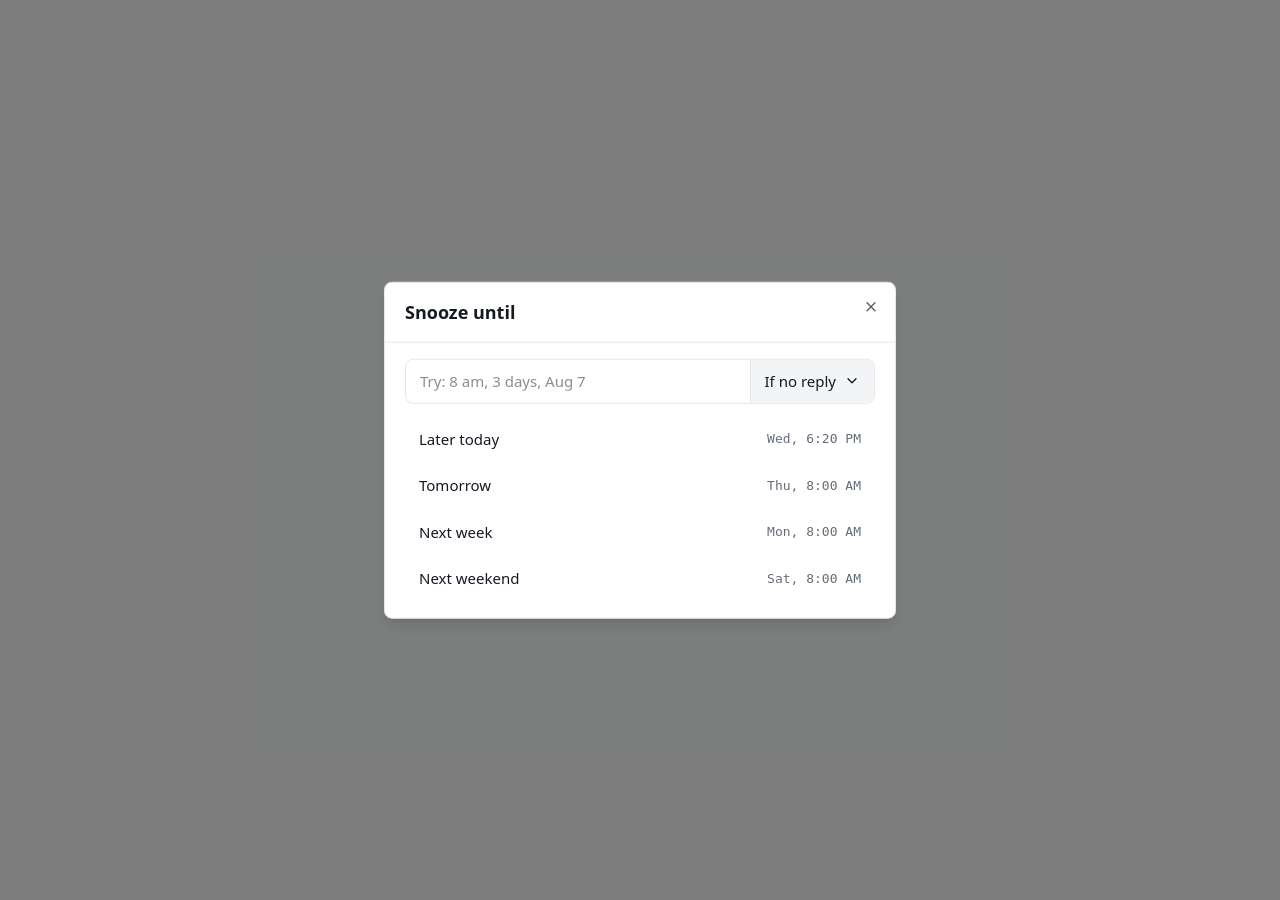
Scenario: choosing a moment › reads back what was typed before anything is committed
Type "3 days" into the field named "When". click: point(578, 381)
box: top-left (406, 360), bottom-right (750, 402)
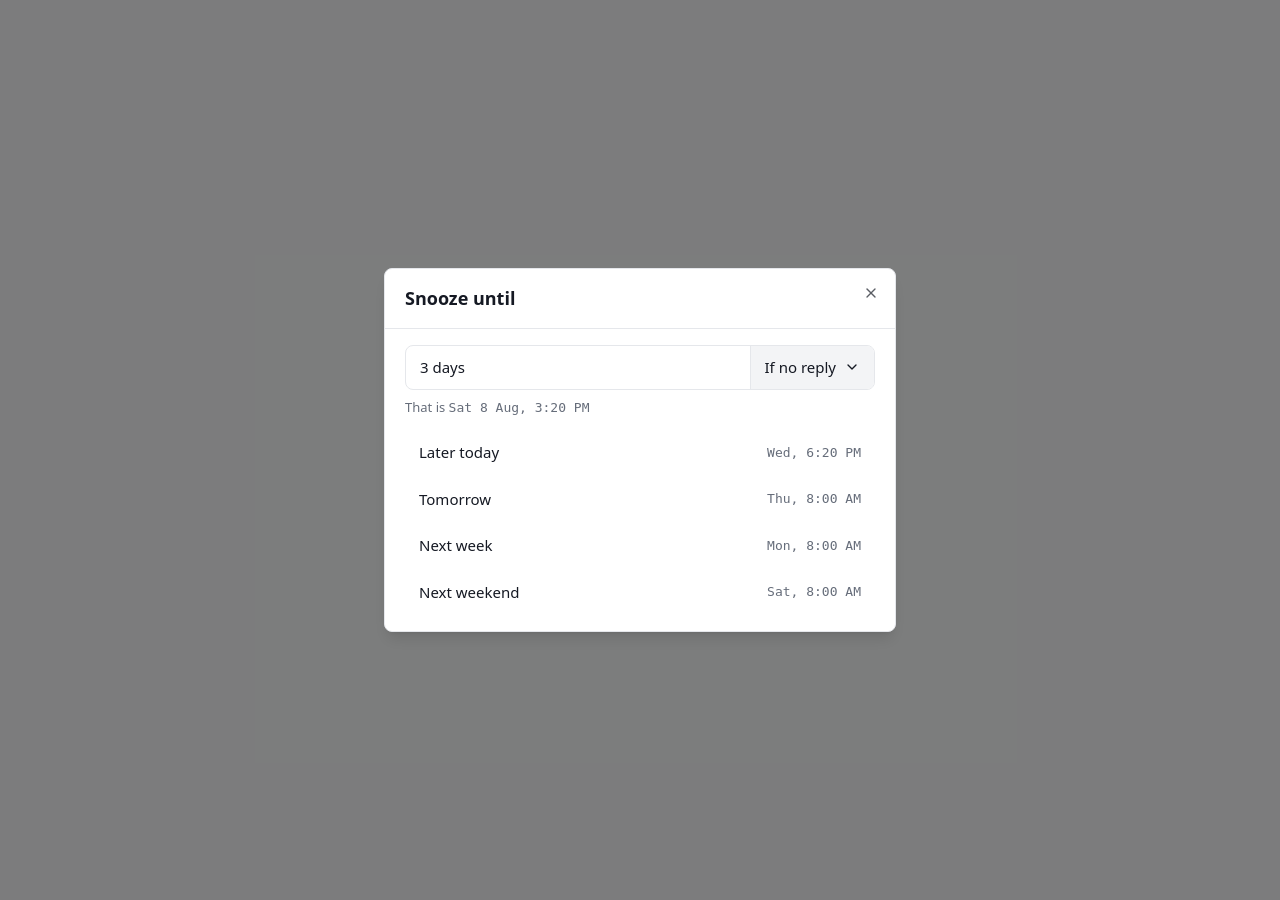
Now the text "Sat 8 Aug, 3:20 PM" is shown, box top-left (449, 400), bottom-right (590, 414)
